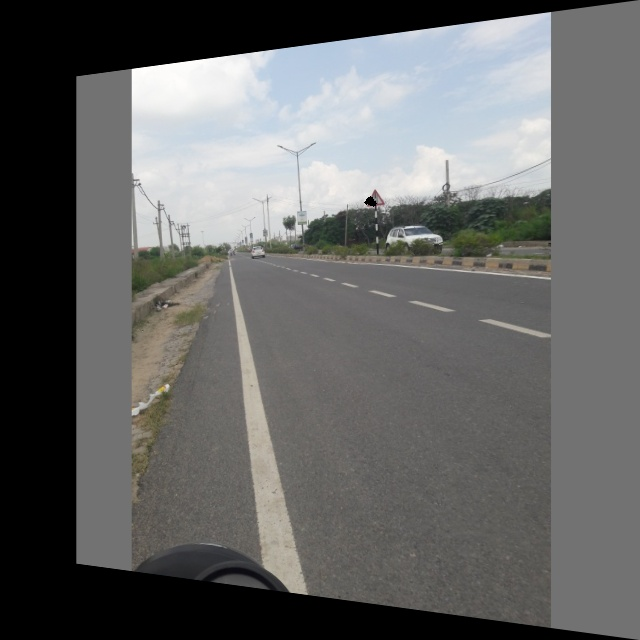Gap_in_Median: (363, 185, 387, 208)
